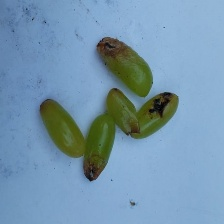grapes: (22, 44, 163, 191)
